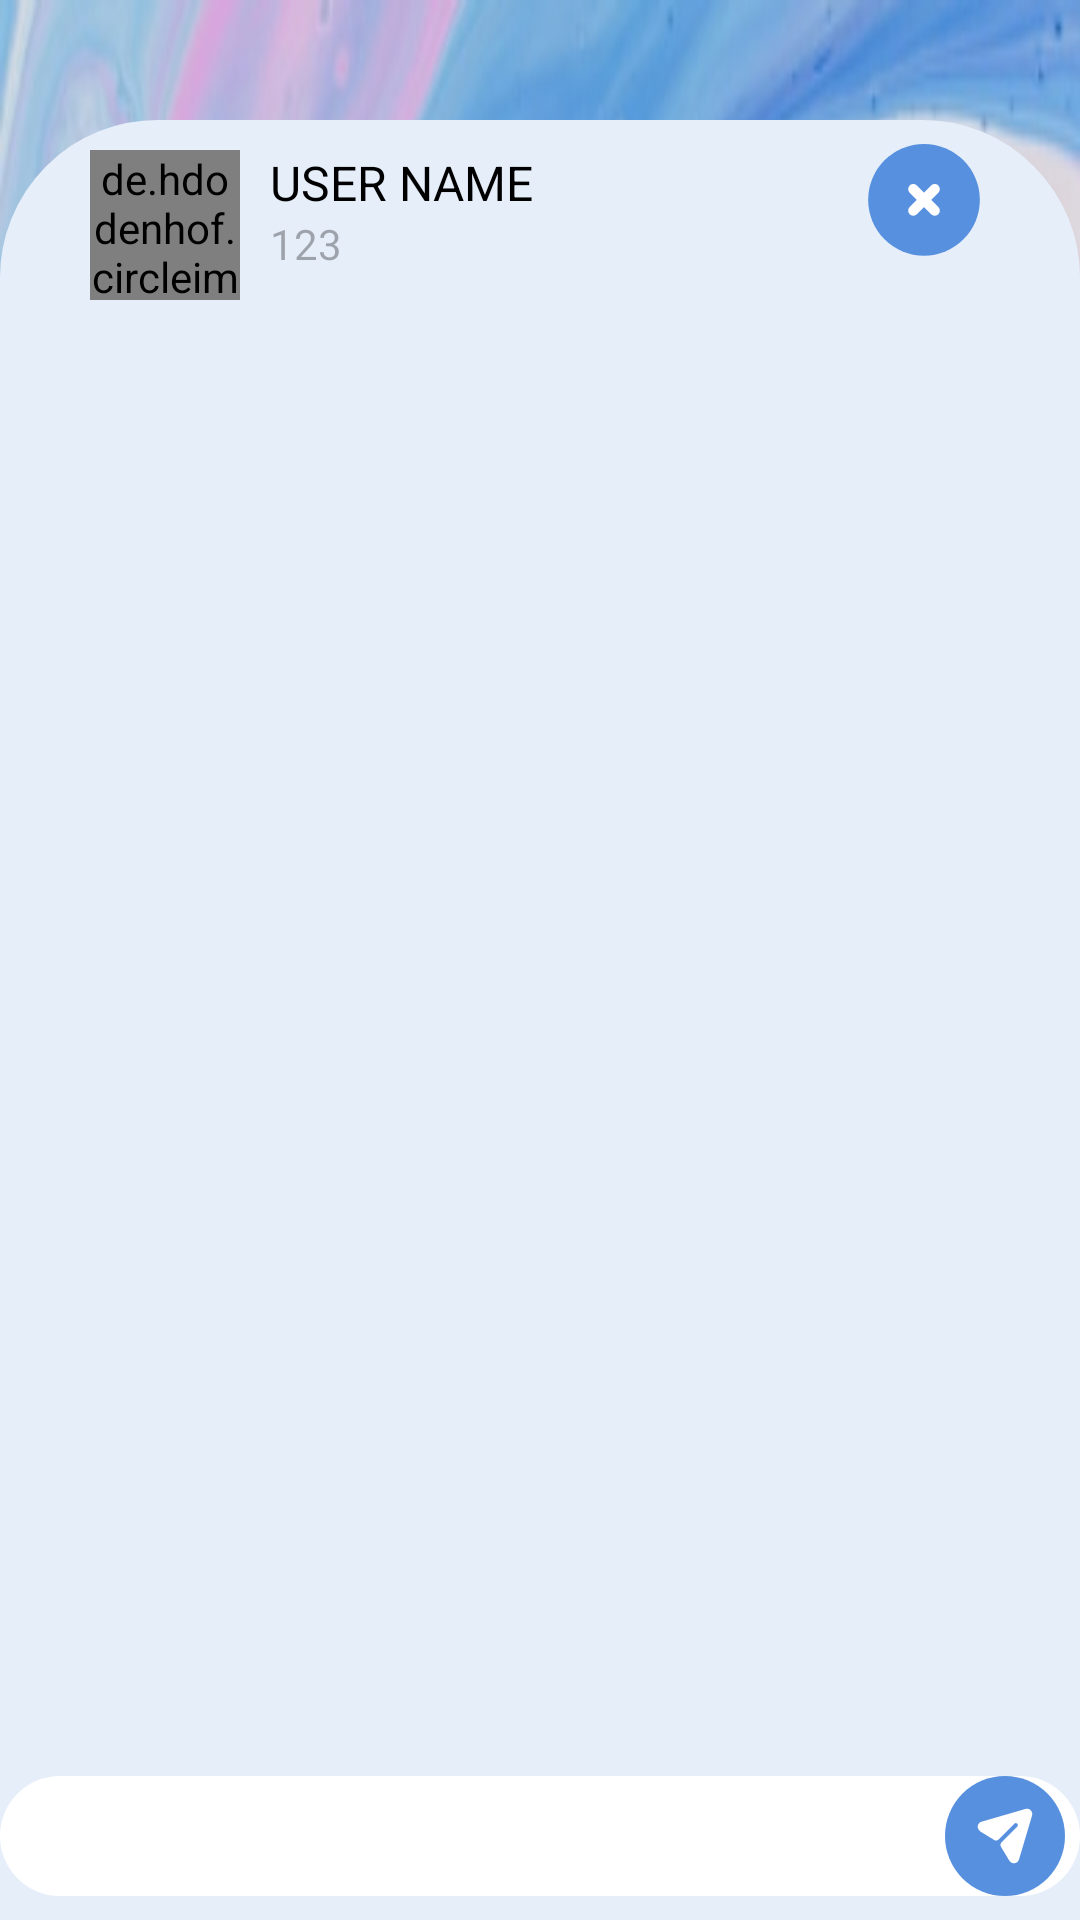

Icon click points for this 1080w x 1920h phone screenshot, format (x=x, y=y):
exit: (x=924, y=200)
sent: (x=1005, y=1836)
